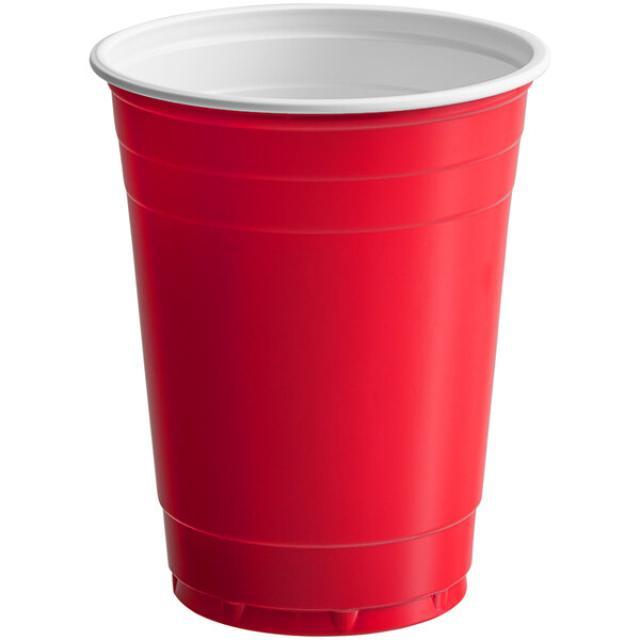Plastic: (89, 2, 550, 640)
